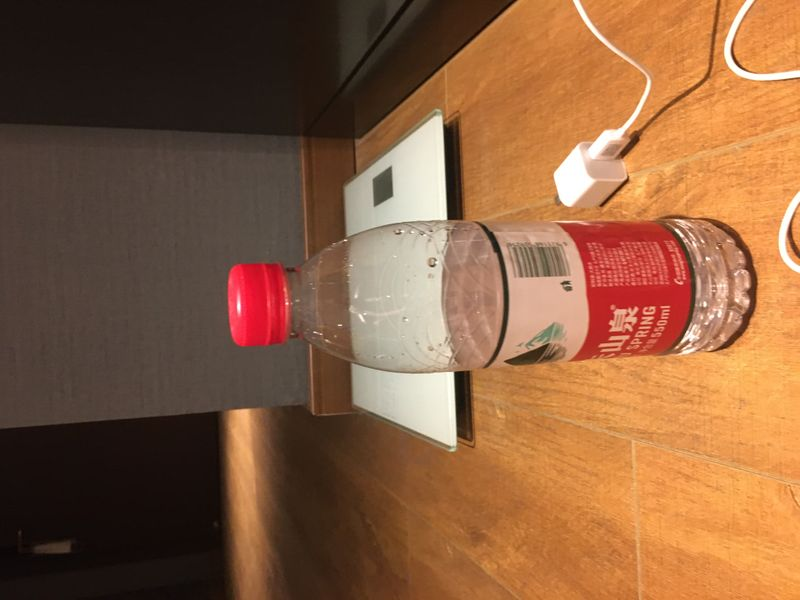5eca67a90202601e8cb8d104: (214, 215, 756, 373)
